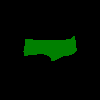mutande: (23, 35, 77, 61)
